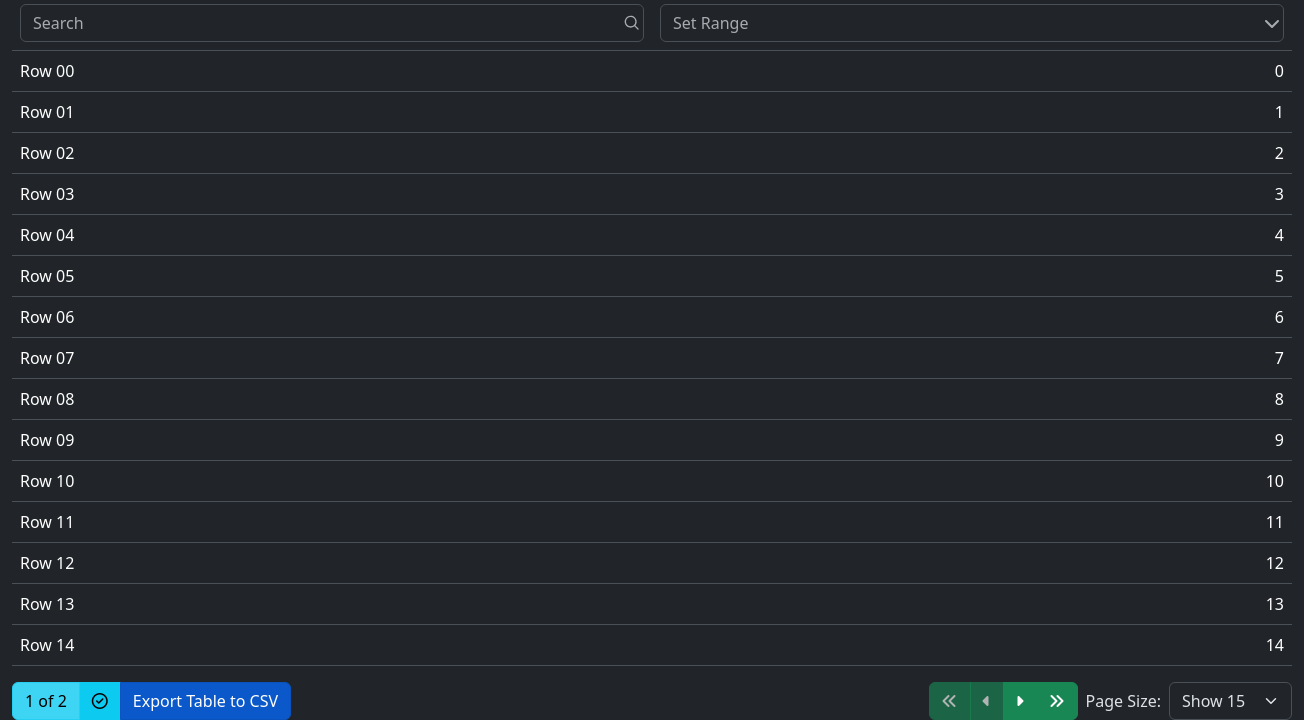
Test case: BaseTable › changes page size via the dropdown, including the 'Show All' option
(page scrolled)
Step 1. Select "Show All" in the dropdown → (1230, 701), box [1169,682,1292,719]
(page scrolled)
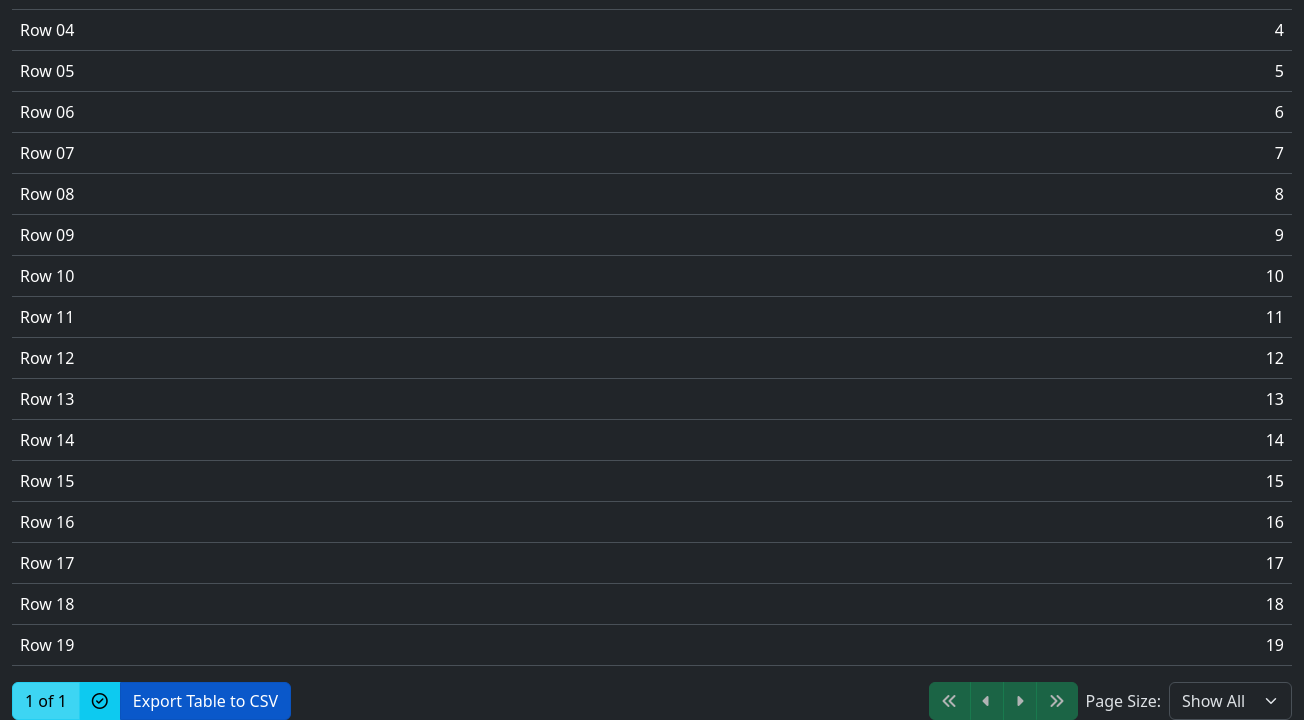
Result: the number of rows is 22
Result: the button "1 of 1" is shown at [12,682,80,719]
